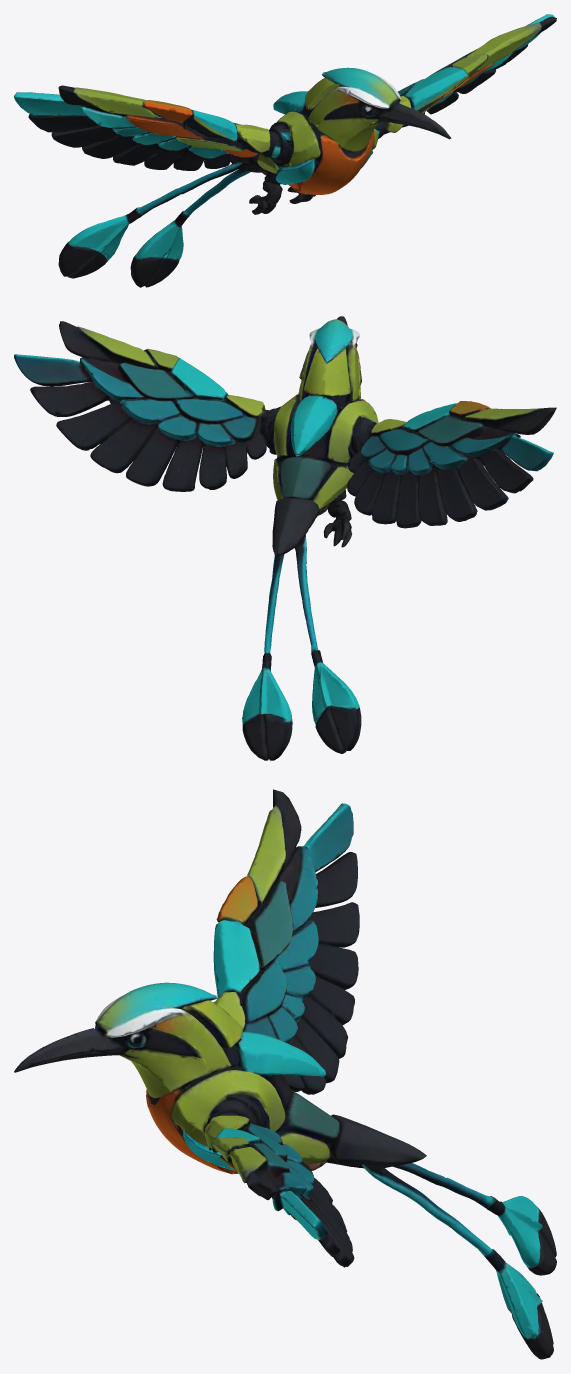
Rendered from movil.glb.
3 renders of one model, top to bottom at view 1: azimuth 30°, elevation 25°; view 2: azimuth 150°, elevation 25°; view 3: azimuth 270°, elevation 25°, orthographic. The views are drawn at different scales.
Visible parts, largest first — view 1: tripo_node_c92a7623-5d49-44e9-8e60-f945c3bb9fa6; view 2: tripo_node_c92a7623-5d49-44e9-8e60-f945c3bb9fa6; view 3: tripo_node_c92a7623-5d49-44e9-8e60-f945c3bb9fa6.
Part boxes in pixels (x1,y1,x2,y2): tripo_node_c92a7623-5d49-44e9-8e60-f945c3bb9fa6: (14,14,556,287); tripo_node_c92a7623-5d49-44e9-8e60-f945c3bb9fa6: (14,316,556,760); tripo_node_c92a7623-5d49-44e9-8e60-f945c3bb9fa6: (14,789,556,1359).
Bounding box in the file's own units: 0.9789 × 0.5543 × 0.6173.
1 material, 1 textured.
